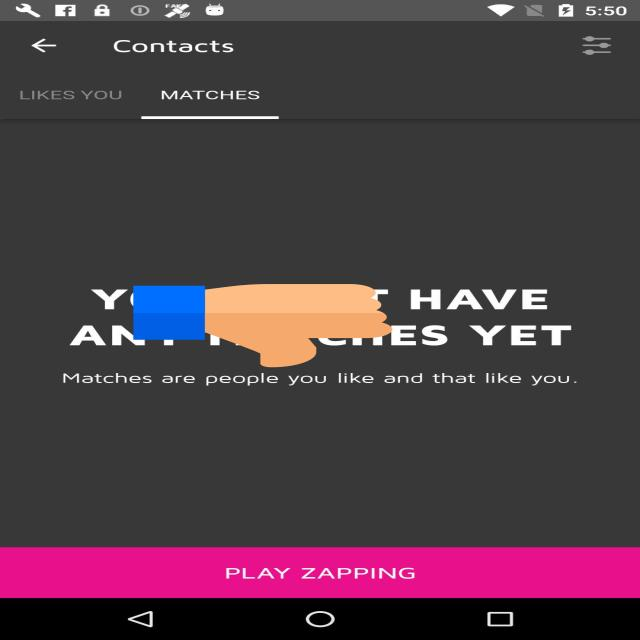obstruction: (134, 282, 392, 369)
